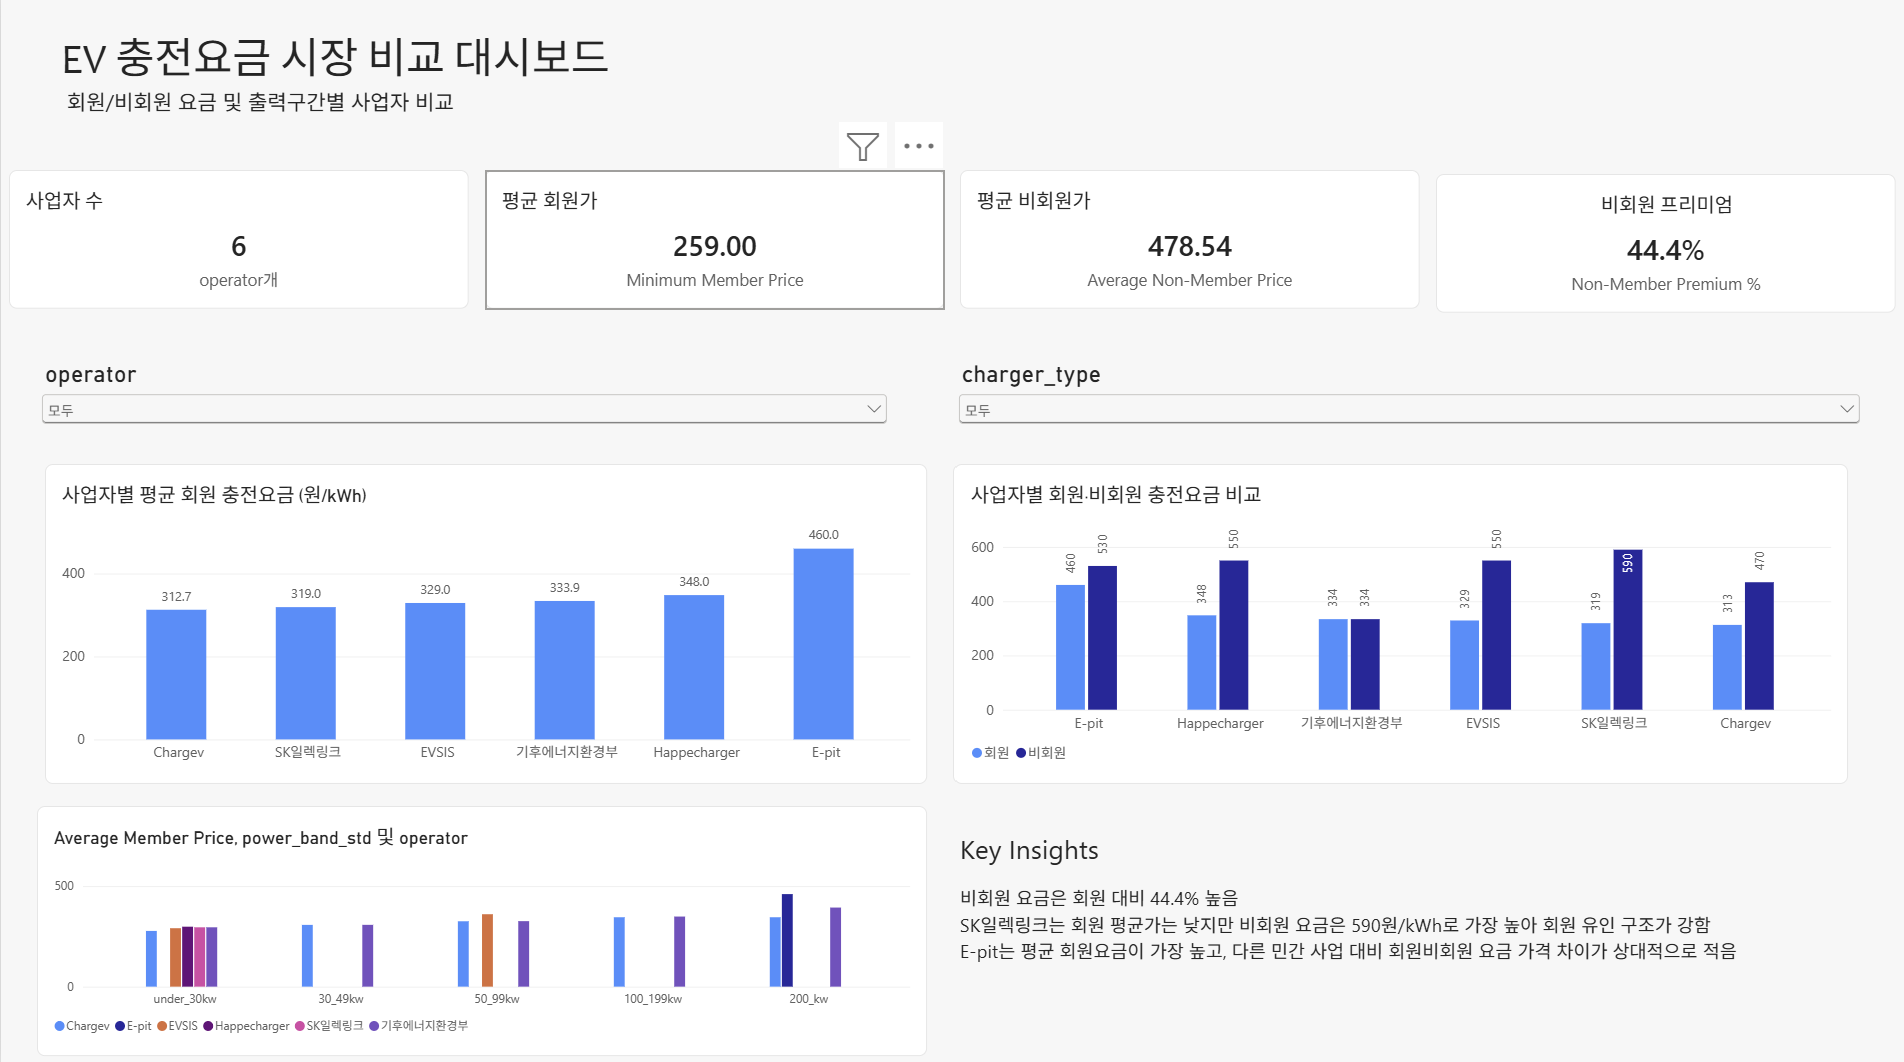

Layout of this report page (visuals, bound fields, positions):
{"tool":"powerbi","page":{"name":"1 페이지","canvas":[1920,1080],"ordinal":0},"visuals":[{"type":"card","title":"평균 회원가","fields":{"Values":["charging_fees_clean.Minimum Member Price"]},"box":[488,178.6,464,140],"z":2000},{"type":"card","title":"평균 비회원가","fields":{"Values":["charging_fees_clean.Average Non-Member Price"]},"box":[968,178.6,464,139.8],"z":3000},{"type":"card","title":"비회원 프리미엄","fields":{"Values":["charging_fees_clean.Non-Member Premium %"]},"box":[1448,181.1,464,139.8],"z":4000},{"type":"clusteredColumnChart","title":"사업자별 평균 회원 충전요금 (원/kWh)","fields":{"Category":["charging_fees_clean.operator"],"Y":["charging_fees_clean.Average Member Price"]},"box":[44.1,480.6,890.1,323.7],"z":6000},{"type":"clusteredColumnChart","title":"사업자별 회원·비회원 충전요금 비교","fields":{"Category":["charging_fees_clean.operator"],"Y":["charging_fees_clean.회원","charging_fees_clean.비회원"]},"box":[961.2,480.6,902.4,323.7],"z":7000},{"type":"clusteredColumnChart","fields":{"Category":["charging_fees_clean.power_band_std"],"Series":["charging_fees_clean.operator"],"Y":["charging_fees_clean.Average Member Price"]},"box":[36.8,826.4,897.5,252.6],"z":8000},{"type":"textbox","box":[967.1,843.9,916.6,179.7],"z":9000},{"type":"textbox","box":[60,30,610,113.3],"z":10000},{"type":"slicer","fields":{"Values":["charging_fees_clean.operator"]},"box":[36.8,370.3,863.1,71.1],"z":11000},{"type":"slicer","fields":{"Values":["charging_fees_clean.charger_type"]},"box":[961.2,370.3,919.5,71.1],"z":12000},{"type":"card","title":"사업자 수","fields":{"Values":["Count(charging_fees_clean.operator)"]},"box":[8,178.6,464,140],"z":13000}]}

Visuals, with their boxes in screenshot pixels (x1, y1, x2, y2), scaled from the page's 1920x1080 canvas onto the 1904x1062 screenshot:
"평균 회원가" card: 484, 176, 944, 313
"평균 비회원가" card: 960, 176, 1420, 313
"비회원 프리미엄" card: 1436, 178, 1896, 316
"사업자별 평균 회원 충전요금 (원/kWh)" clusteredColumnChart: 44, 473, 926, 791
"사업자별 회원·비회원 충전요금 비교" clusteredColumnChart: 953, 473, 1848, 791
clusteredColumnChart - charging_fees_clean.power_band_std x charging_fees_clean.operator: 36, 813, 927, 1061
textbox: 959, 830, 1868, 1007
textbox: 60, 30, 664, 141
slicer - charging_fees_clean.operator: 36, 364, 892, 434
slicer - charging_fees_clean.charger_type: 953, 364, 1865, 434
"사업자 수" card: 8, 176, 468, 313
